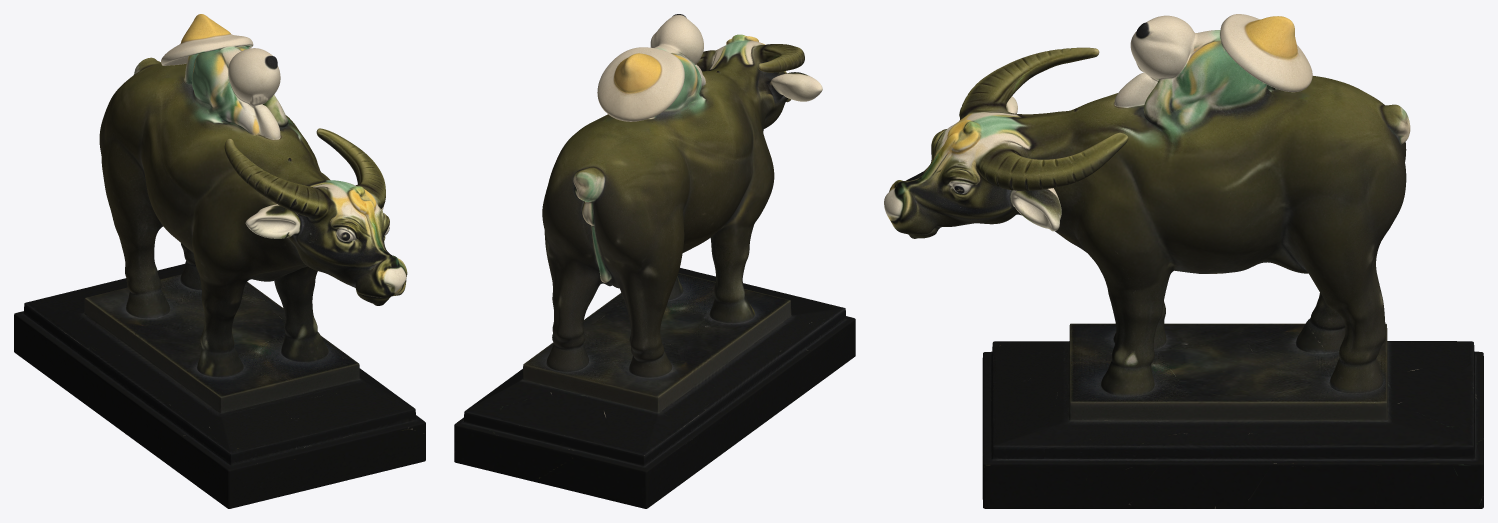
The picture shows the model from 3 angles, left to right: view 1: azimuth 30°, elevation 25°; view 2: azimuth 150°, elevation 25°; view 3: azimuth 270°, elevation 25°; orthographic projection. The views are drawn at different scales.
Bounding box in the file's own units: 0.8447 × 1.53 × 1.9.
Materials: 1 (1 with a texture image).
